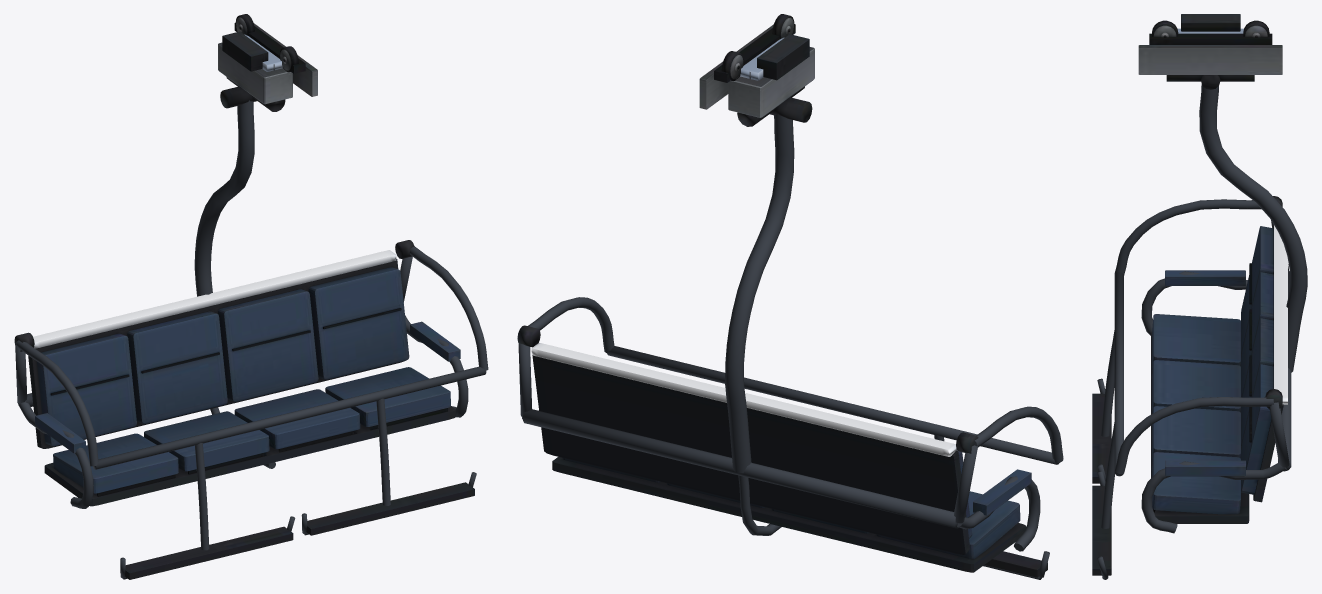
File: chair4.glb
3 renders of one model, left to right at view 1: azimuth 30°, elevation 25°; view 2: azimuth 150°, elevation 25°; view 3: azimuth 270°, elevation 25°, orthographic. The views are drawn at different scales.
Visible parts, largest first — view 1: chair4, chair4_paint, chair4_snow; view 2: chair4, chair4_paint, chair4_snow; view 3: chair4, chair4_paint, chair4_snow.
Boxes of the visible parts, x1=… form: chair4: x1=14, y1=14, x2=474, y2=579; chair4_paint: x1=15, y1=100, x2=488, y2=579; chair4_snow: x1=33, y1=34, x2=396, y2=348; chair4: x1=517, y1=14, x2=1047, y2=577; chair4_paint: x1=518, y1=114, x2=1063, y2=579; chair4_snow: x1=531, y1=37, x2=957, y2=456; chair4: x1=1092, y1=14, x2=1283, y2=575; chair4_paint: x1=1097, y1=84, x2=1307, y2=579; chair4_snow: x1=1177, y1=28, x2=1287, y2=404.
Bounding box in the file's own units: 2.72 × 3.02 × 1.23.
3 materials, 1 textured.
